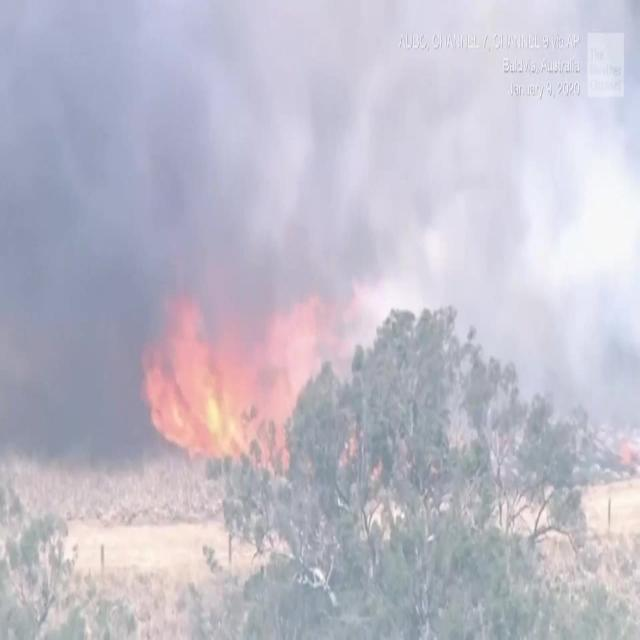Fire: (142, 294, 336, 457)
Smoke: (139, 5, 396, 284), (0, 2, 136, 456)
